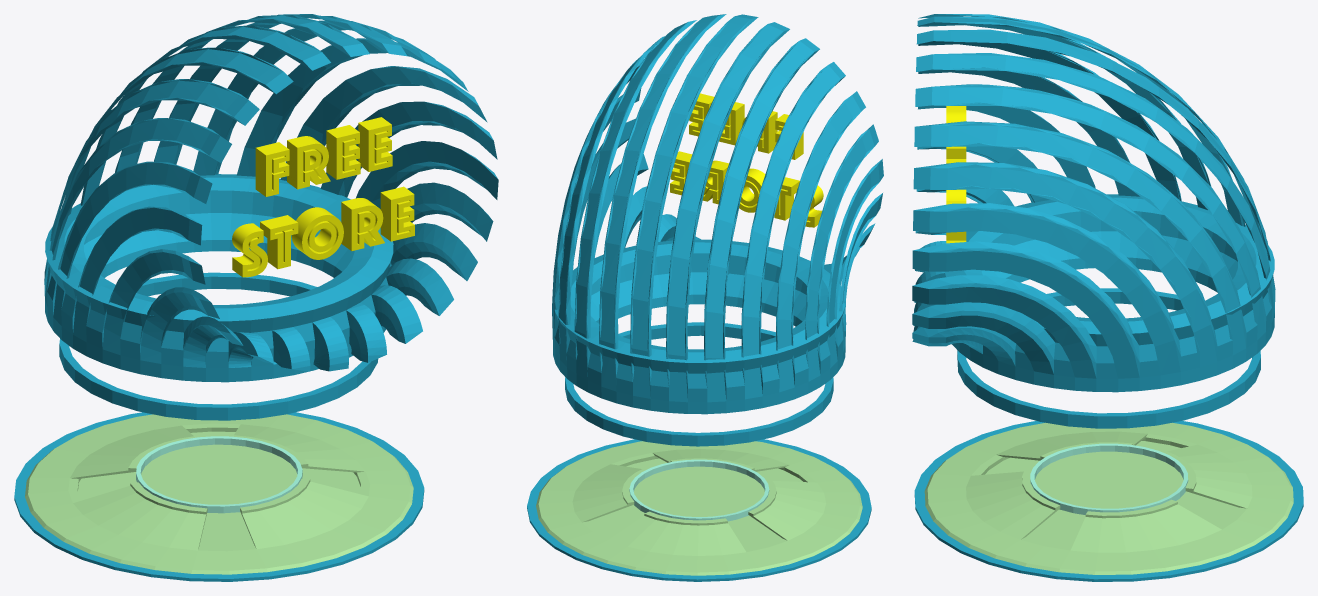
File: FreeStore02.dae
The picture shows the model from 3 angles, left to right: view 1: azimuth 30°, elevation 25°; view 2: azimuth 150°, elevation 25°; view 3: azimuth 270°, elevation 25°; orthographic projection. The views are drawn at different scales.
Parts seen in each view (by area): view 1: Torus, Cylinder, FREE_STORE, Cylinder_002, Cylinder_003, Cylinder_004; view 2: Torus, Cylinder, FREE_STORE, Cylinder_002, Cylinder_003, Cylinder_004; view 3: Torus, Cylinder, Cylinder_002, Cylinder_003, Cylinder_004, FREE_STORE.
Boxes of the visible parts, <box> form: Torus: <box>44,14,498,382</box>; Cylinder: <box>25,414,413,574</box>; FREE_STORE: <box>232,117,414,277</box>; Cylinder_002: <box>59,272,378,420</box>; Cylinder_003: <box>14,412,424,581</box>; Cylinder_004: <box>136,436,302,513</box>; Torus: <box>552,14,883,414</box>; Cylinder: <box>536,441,862,575</box>; FREE_STORE: <box>670,93,823,227</box>; Cylinder_002: <box>565,322,833,446</box>; Cylinder_003: <box>527,439,871,581</box>; Cylinder_004: <box>629,459,769,521</box>; Torus: <box>912,14,1275,392</box>; Cylinder: <box>924,422,1293,574</box>; Cylinder_002: <box>957,288,1260,428</box>; Cylinder_003: <box>914,421,1303,581</box>; Cylinder_004: <box>1030,443,1188,514</box>; FREE_STORE: <box>946,106,966,243</box>.
Bounding box in the file's own units: 29.6 × 29.53 × 40.57.
